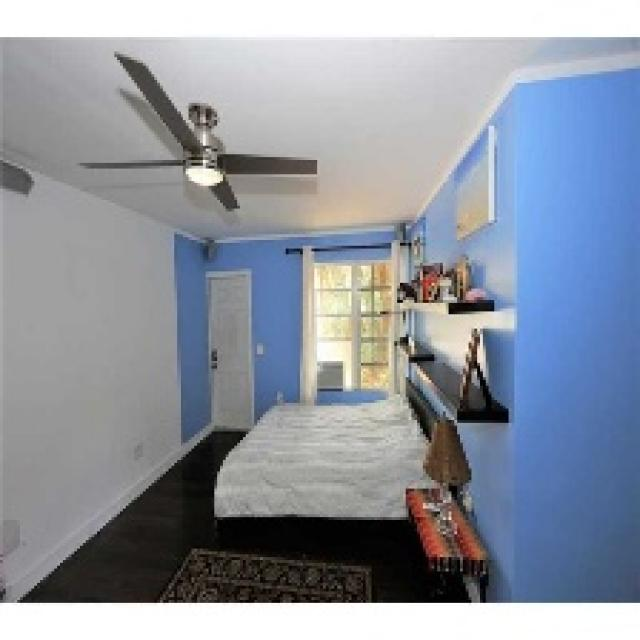Bed: (211, 392, 440, 532)
